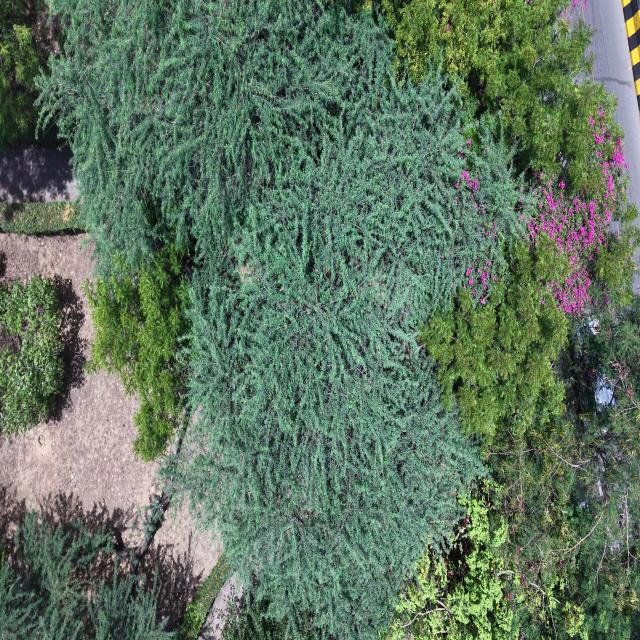DRY_AREA: (0, 234, 156, 546), (0, 148, 77, 202)
PATHWAYS: (568, 0, 639, 208), (623, 0, 639, 111)
VEGETATION_TREE: (37, 0, 639, 639), (41, 2, 520, 637), (182, 9, 519, 637), (394, 2, 638, 638), (421, 112, 639, 638), (39, 0, 413, 269), (423, 283, 639, 639), (420, 118, 638, 443), (390, 414, 639, 639), (380, 0, 621, 201), (488, 322, 639, 638), (381, 0, 621, 193), (84, 244, 189, 573), (420, 242, 568, 445), (566, 297, 639, 637), (525, 109, 639, 314), (84, 245, 189, 461), (0, 512, 173, 639), (381, 490, 517, 639), (387, 491, 514, 639), (0, 275, 63, 433), (128, 424, 186, 574), (0, 0, 59, 147), (581, 298, 639, 434), (0, 0, 40, 146), (221, 589, 321, 639), (180, 555, 230, 639), (223, 595, 285, 639), (0, 202, 79, 234)
